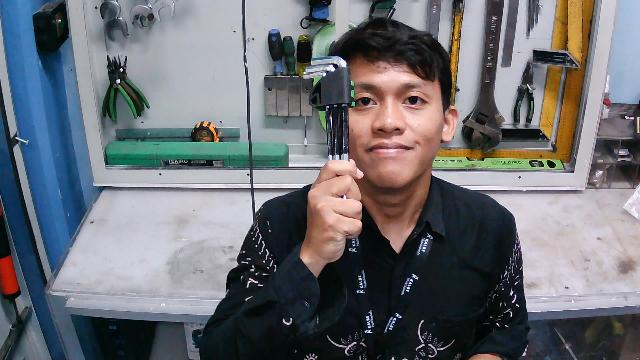kunci_l: (293, 54, 365, 244)
